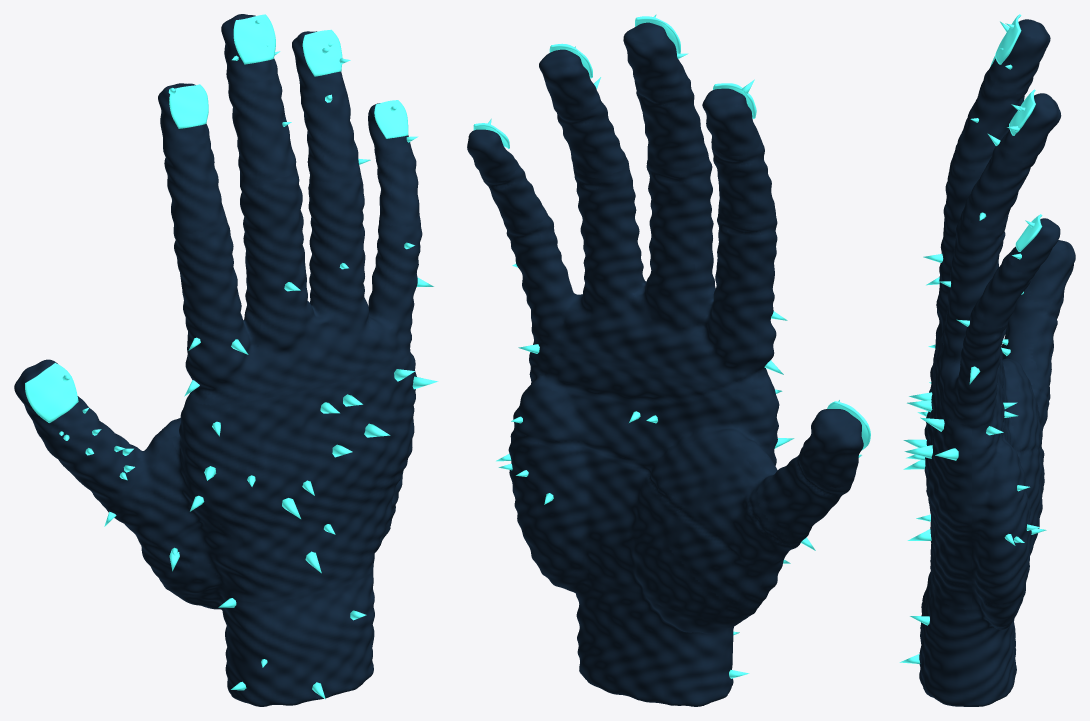
The model's file is family-05.glb.
3 views of the same model, side by side, from view 1: azimuth 30°, elevation 25°; view 2: azimuth 150°, elevation 25°; view 3: azimuth 270°, elevation 25° (orthographic). The views are drawn at different scales.
Visible parts, largest first — view 1: knuckles__knuckles_sculpt, back_of_hand__back_of_hand_sculpt, middle_sections__middle_sections_sculpt, wrist__wrist_sculpt, fingertips__fingertips_sculpt, palm__palm_sculpt, nails__thumb_claw, back_of_hand, nails__middle_claw, nails__ring_claw, nails__index_claw, nails__pinky_claw (+1 smaller); view 2: knuckles__knuckles_sculpt, palm__palm_sculpt, middle_sections__middle_sections_sculpt, wrist__wrist_sculpt, fingertips__fingertips_sculpt; view 3: palm__palm_sculpt, knuckles__knuckles_sculpt, middle_sections__middle_sections_sculpt, wrist__wrist_sculpt, fingertips__fingertips_sculpt, back_of_hand__back_of_hand_sculpt, back_of_hand, nails__middle_claw, palm, nails__ring_claw, nails__pinky_claw, knuckles.
Boxes of the visible parts, x1,y1,x2,y2 form: knuckles__knuckles_sculpt: [101, 170, 422, 584]; back_of_hand__back_of_hand_sculpt: [183, 349, 416, 602]; middle_sections__middle_sections_sculpt: [44, 76, 420, 504]; wrist__wrist_sculpt: [173, 550, 377, 706]; fingertips__fingertips_sculpt: [14, 14, 412, 444]; palm__palm_sculpt: [162, 395, 403, 595]; nails__thumb_claw: [25, 363, 78, 422]; back_of_hand: [190, 369, 438, 573]; nails__middle_claw: [233, 14, 275, 64]; nails__ring_claw: [302, 29, 342, 76]; nails__index_claw: [169, 84, 208, 128]; nails__pinky_claw: [374, 100, 408, 138]; knuckles__knuckles_sculpt: [504, 152, 809, 610]; palm__palm_sculpt: [508, 336, 774, 620]; middle_sections__middle_sections_sculpt: [481, 75, 854, 538]; wrist__wrist_sculpt: [539, 568, 746, 706]; fingertips__fingertips_sculpt: [467, 22, 863, 488]; palm__palm_sculpt: [970, 349, 1042, 621]; knuckles__knuckles_sculpt: [933, 153, 1050, 492]; middle_sections__middle_sections_sculpt: [954, 70, 1059, 386]; wrist__wrist_sculpt: [919, 571, 1016, 706]; fingertips__fingertips_sculpt: [988, 19, 1075, 310]; back_of_hand__back_of_hand_sculpt: [924, 353, 972, 609]; back_of_hand: [903, 344, 958, 540]; nails__middle_claw: [995, 14, 1021, 64]; palm: [986, 402, 1046, 545]; nails__ring_claw: [1009, 89, 1035, 135]; nails__pinky_claw: [1015, 214, 1042, 251]; knuckles: [923, 254, 980, 384].
Bounding box in the file's own units: 0.1321 × 0.2174 × 0.0537.
Materials: 2 (1 with a texture image).
